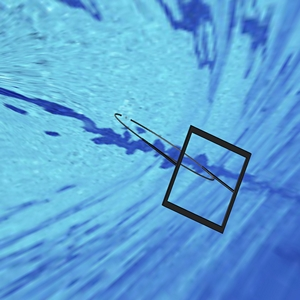circle: (111, 109, 252, 235)
